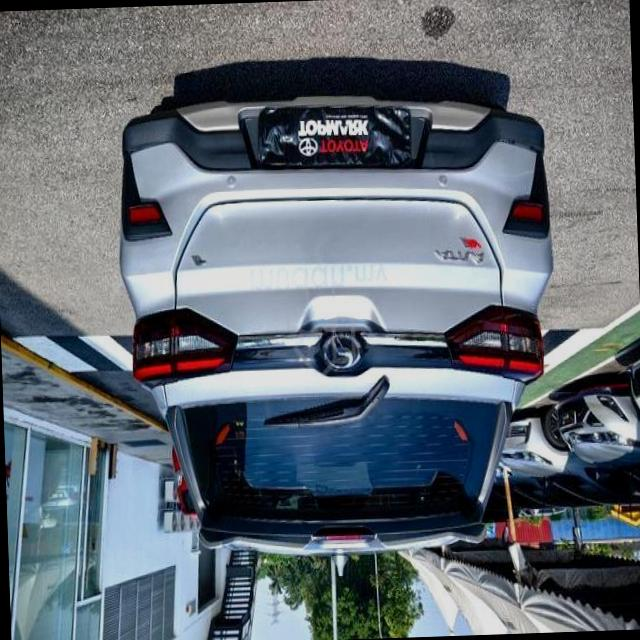PeroduaAtiva: (112, 85, 564, 564)
